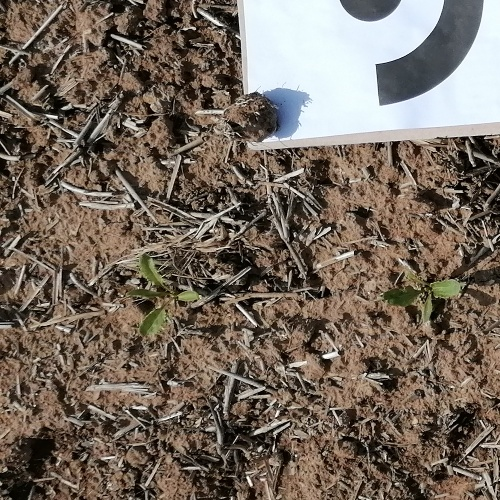beet: (125, 253, 198, 338), (382, 279, 460, 325)
